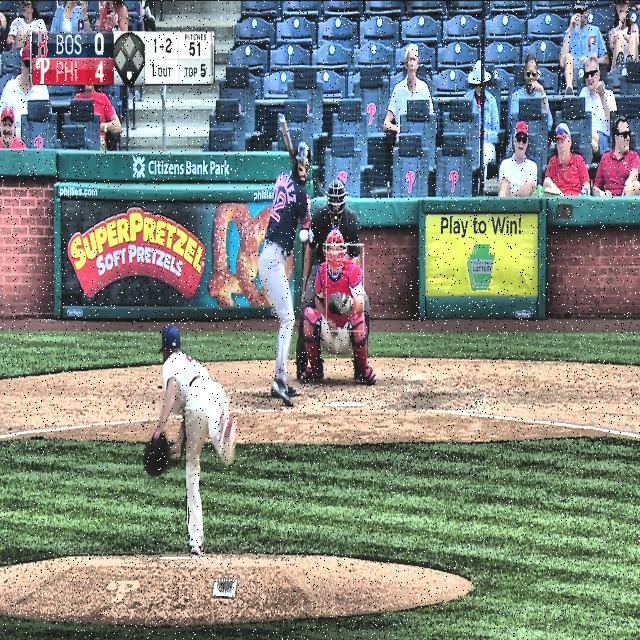baseball: (299, 230, 308, 242)
